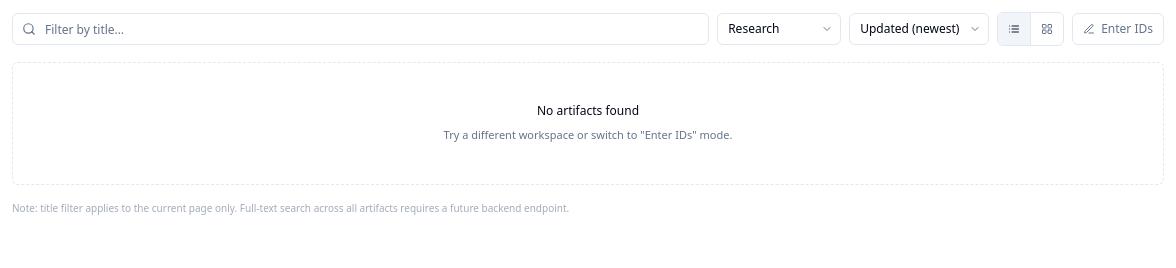
Scenario: SynthesisArtifactPicker — manual mode › switches to manual ID textarea on toggle click
Click the button with aria-label "enter ids manually".
click(1118, 29)  # box [1072,13,1164,45]
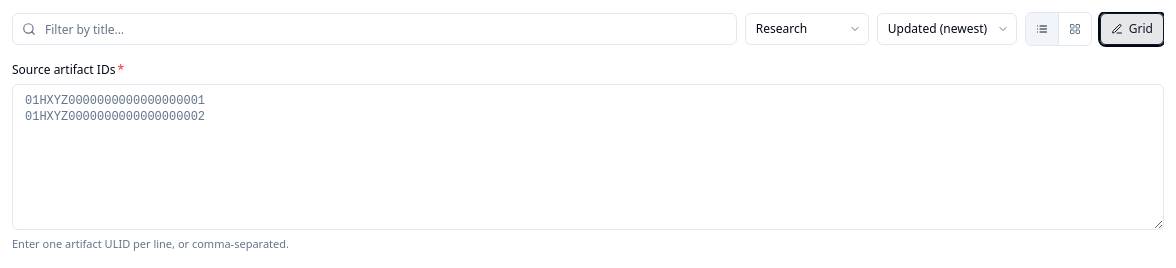
Check: the text box named "source artifact ids" is shown, box [12,84,1164,230]
